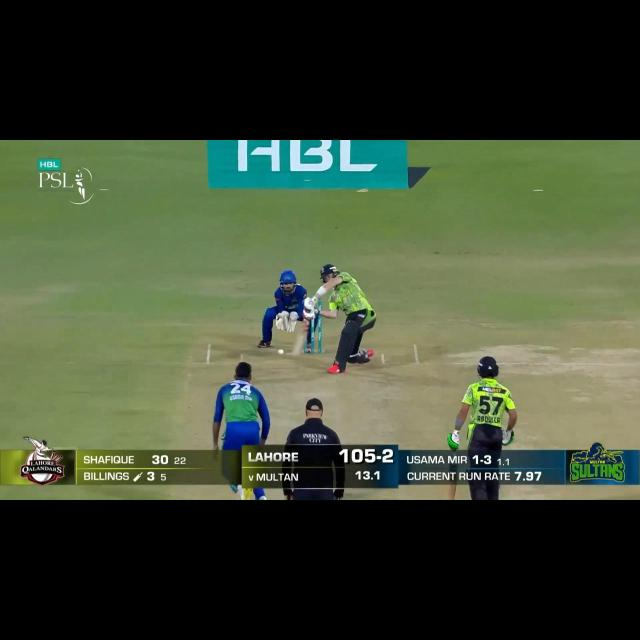bat: (292, 309, 312, 358), (444, 481, 461, 502)
toe: (292, 345, 306, 355)
